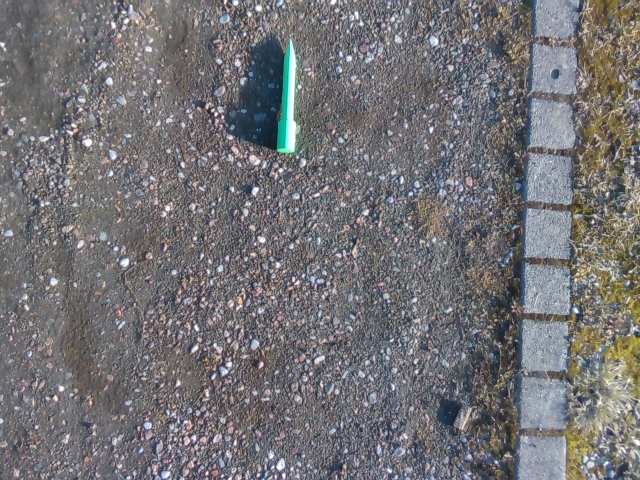Probe: (273, 35, 301, 156)
